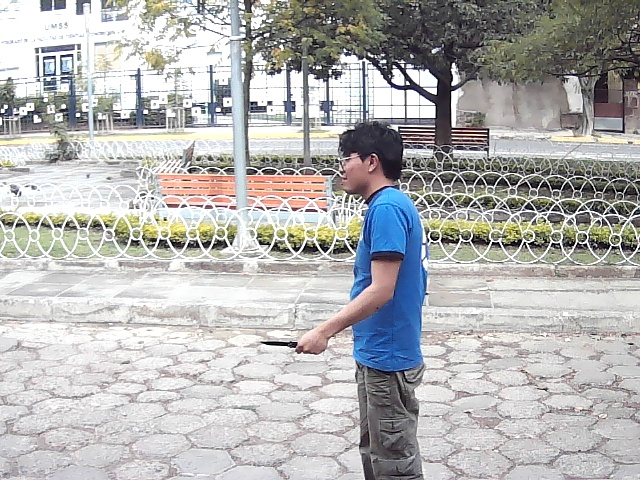cuchillo: (247, 331, 329, 359)
